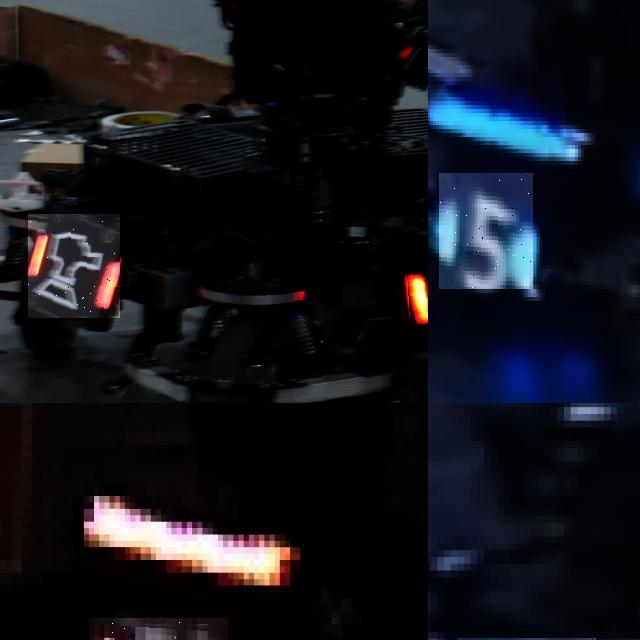B5: (439, 173, 533, 289)
Rs: (28, 214, 120, 318)
